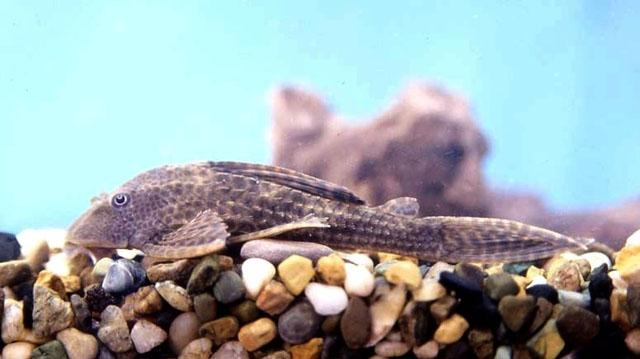Sirip Dada: (138, 202, 238, 274)
Sirip Ekor: (414, 201, 610, 273)
Sirip Perut: (238, 208, 352, 266)
Sirip Punggung: (205, 148, 427, 230)
